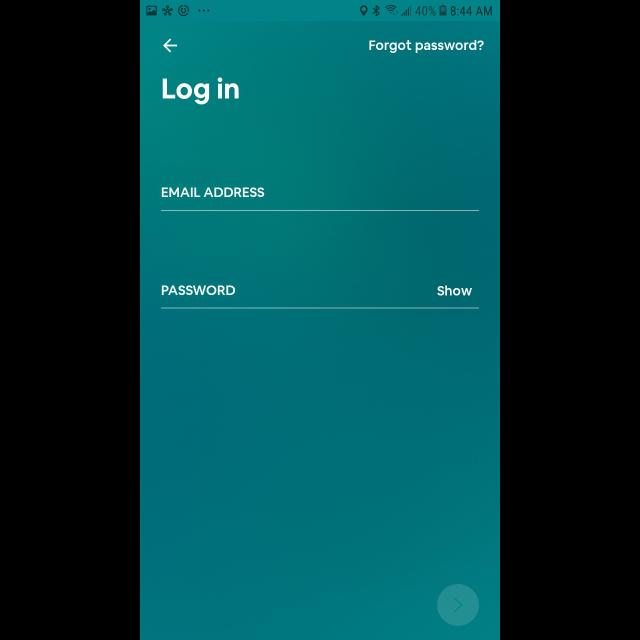icon: (436, 584, 479, 626), (162, 38, 178, 54)
input: (161, 285, 479, 309), (161, 188, 479, 212)
text: (162, 76, 238, 104), (370, 40, 484, 54), (162, 187, 264, 197), (162, 284, 235, 296), (438, 286, 472, 296)
uppertaskbar: (140, 1, 500, 22)
